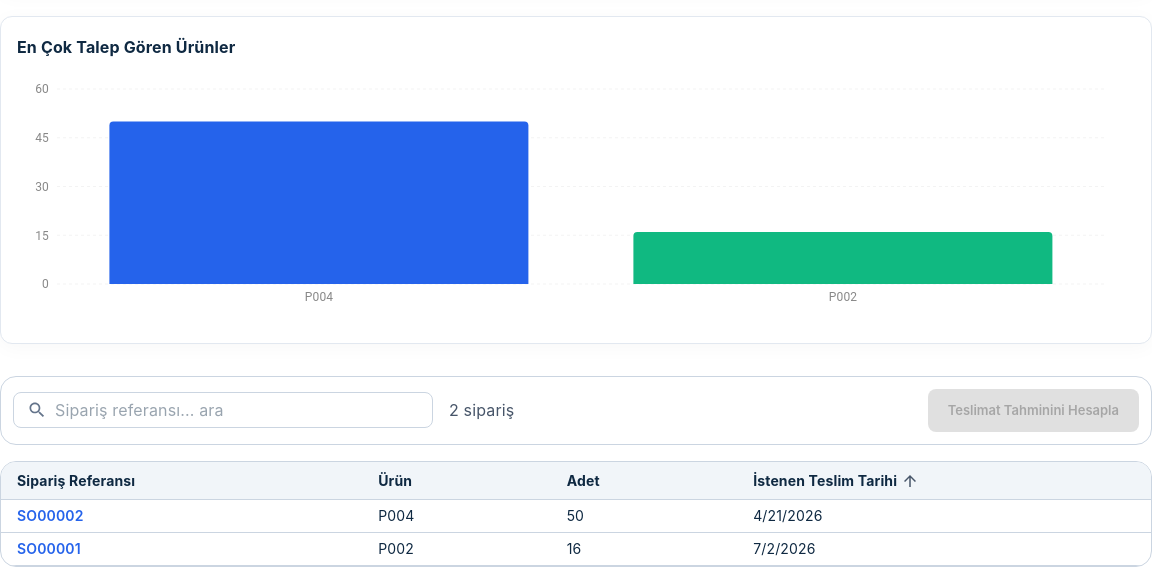
Test: Orders › filters rows by the search box
(page scrolled)
Expected: the link "SO00001" is shown, [17,540,81,557]
Type "SO00002" into the field with placeholder "Sipariş referansı... ara".
click(244, 410); type("SO00002")  # box [55,382,433,438]
(page scrolled)
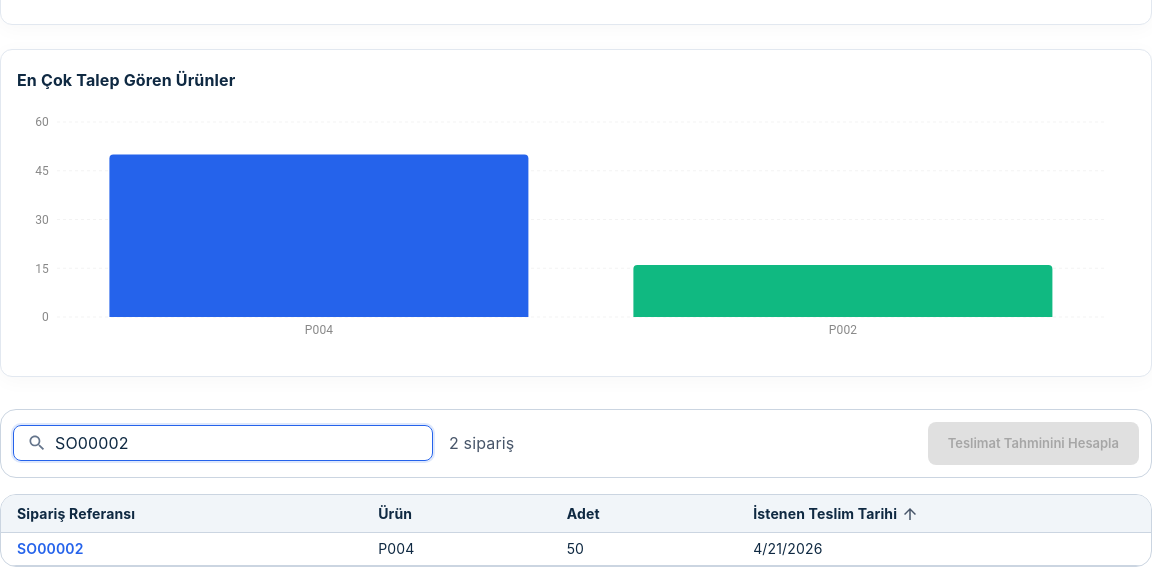
Expected: the link "SO00002" is shown, [17,540,84,557]
Result: the link "SO00001" is gone
